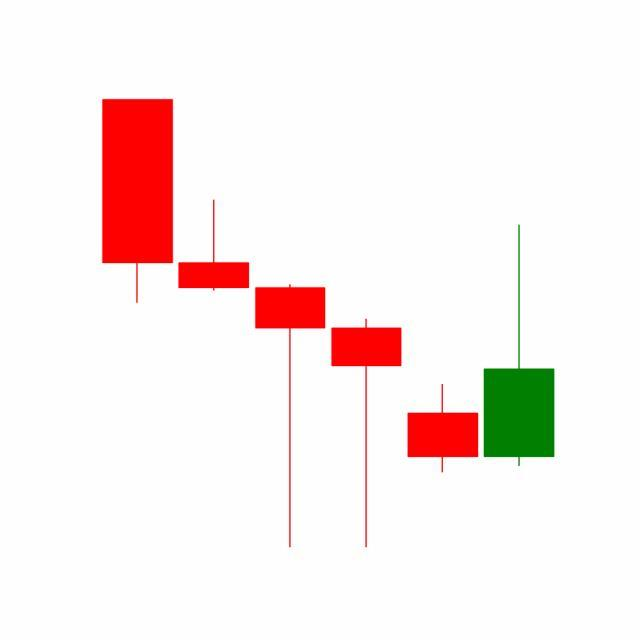Hikkake Pattern: (175, 195, 555, 549)
